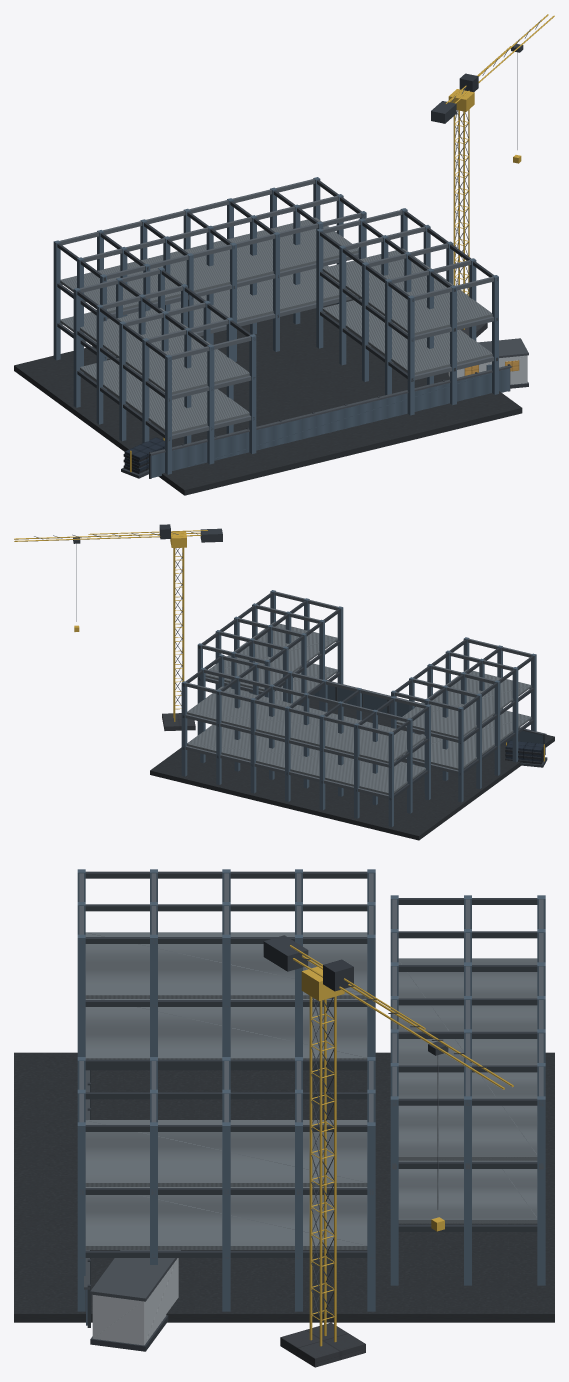
Rendered from trg-1-construction.glb.
The picture shows the model from 3 angles, top to bottom: view 1: azimuth 30°, elevation 25°; view 2: azimuth 150°, elevation 25°; view 3: azimuth 270°, elevation 25°; orthographic projection. The views are drawn at different scales.
Bounding box in the file's own units: 52.02 × 22.65 × 28.
19 materials, 11 textured.
